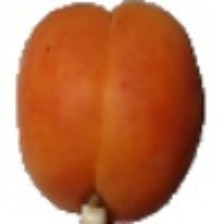apricot: (46, 0, 215, 196)
